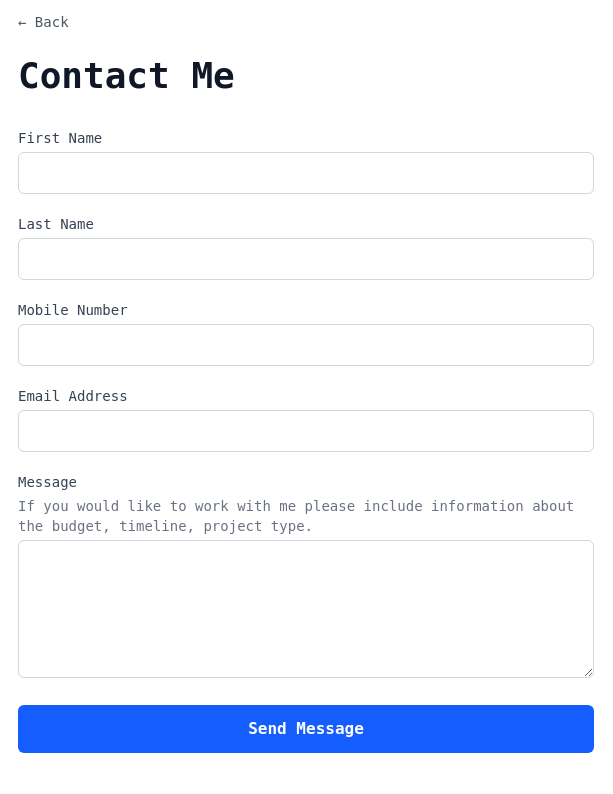
ContactForm (en-GB, default locale) › client-side validation on blur › shows the localized mobile error message from enGB dict when an invalid phone number is entered and blurred
In the field labelled "Mobile Number": (306, 345) [18,324,594,366], type "abc"
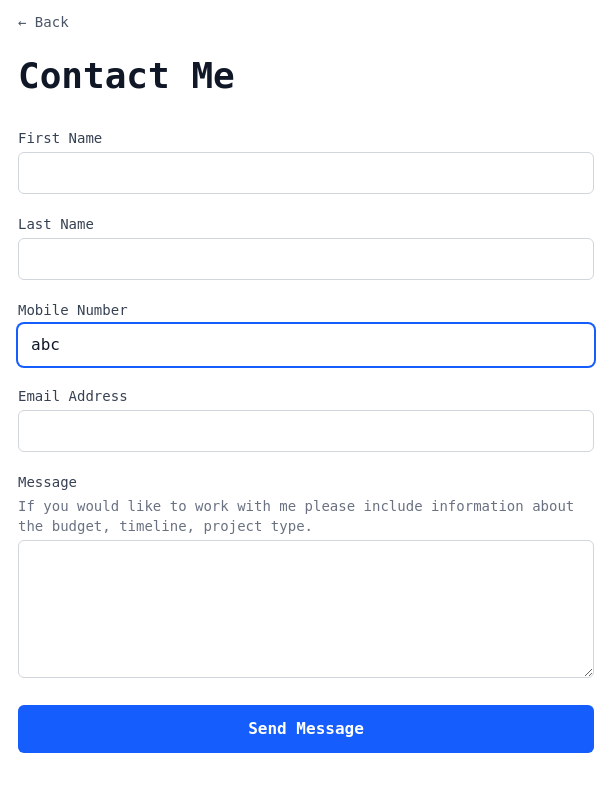
Press Tab
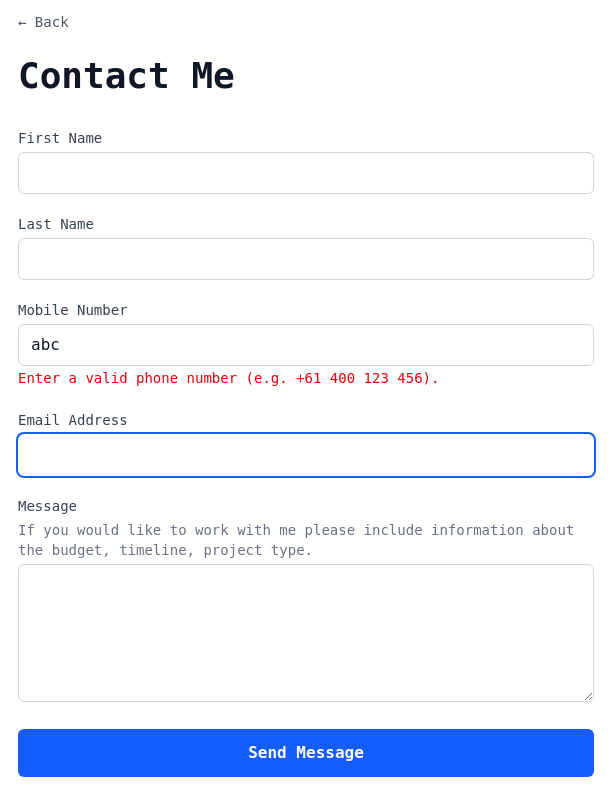
Expected: the text "Enter a valid phone number (e.g. +61 400 123 456)." is shown, [18,370,439,386]
